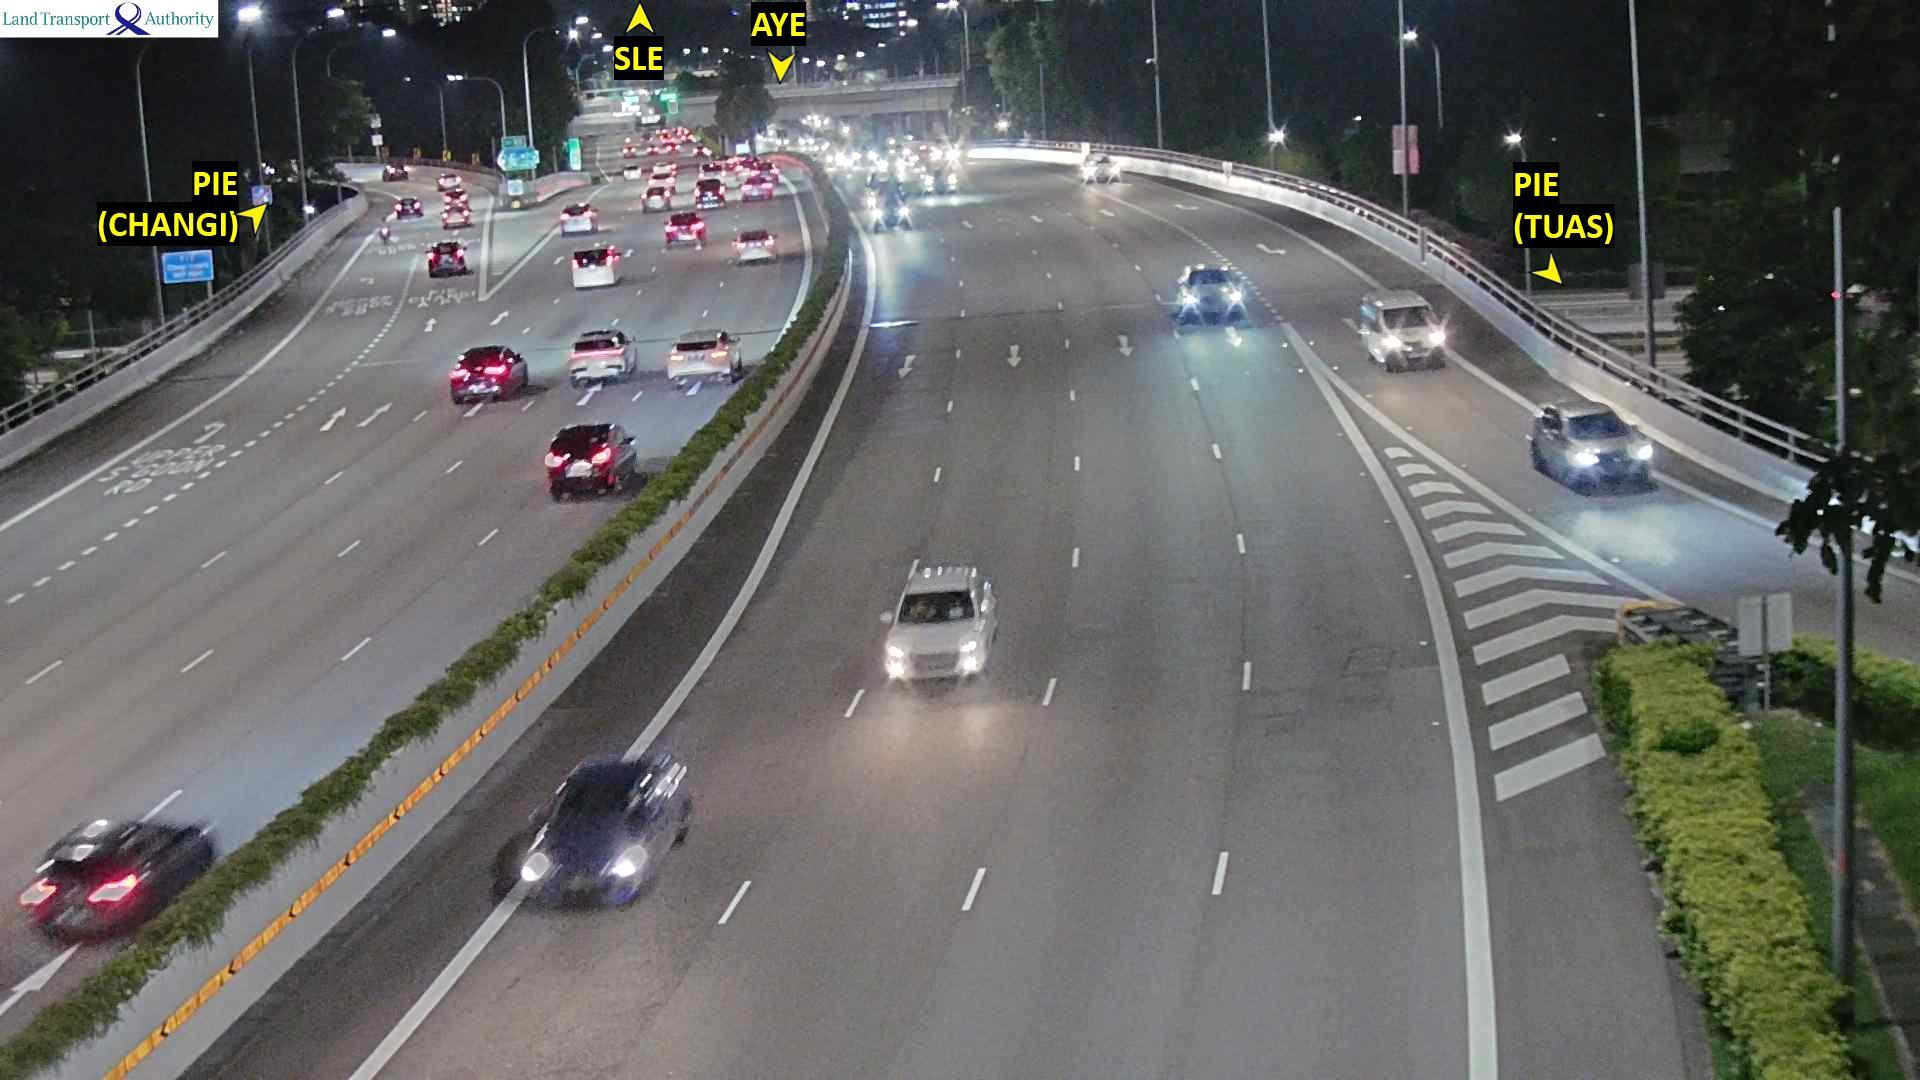incoming: (521, 761, 667, 910), (876, 582, 985, 687), (1547, 408, 1658, 488), (1365, 302, 1450, 369), (1177, 263, 1247, 320), (1082, 153, 1121, 184), (924, 166, 959, 193)
